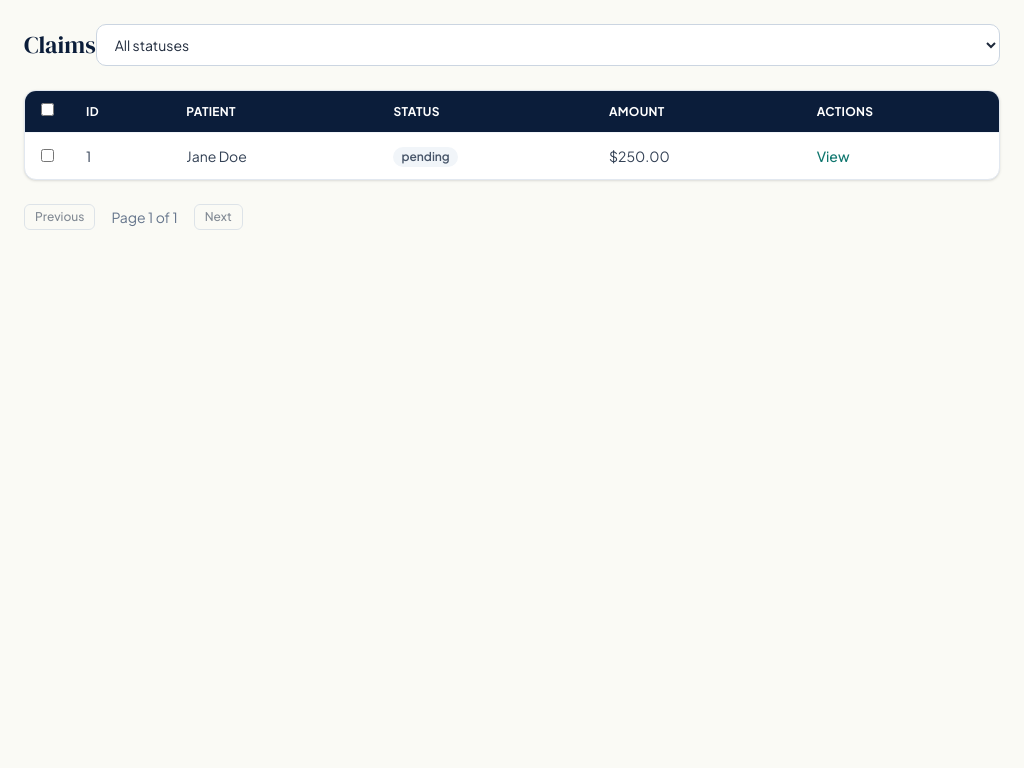
Test: ClaimsList › permission gating › disables the confirm Void button when the user lacks billing:batch
Expected: the text "Jane Doe" is shown, [170, 132, 377, 179]
Click the checkbox named "Select claim 1" at (48, 156), box [41, 149, 54, 162]
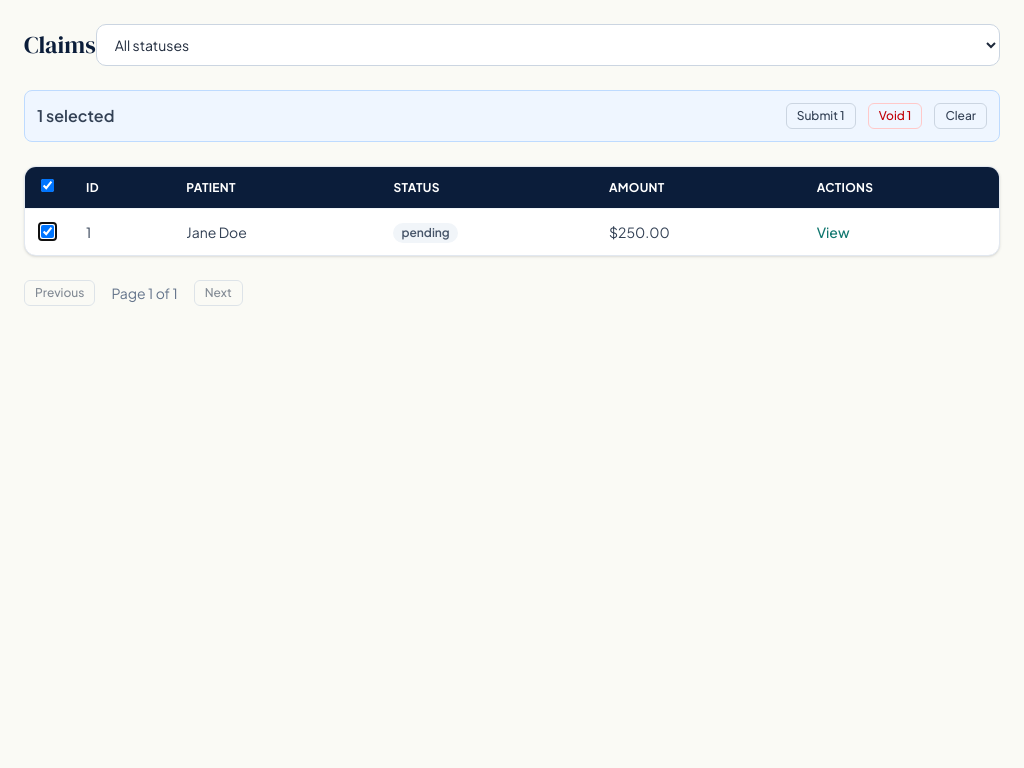
Click the button "Void 1" at (895, 116), box [868, 103, 922, 129]
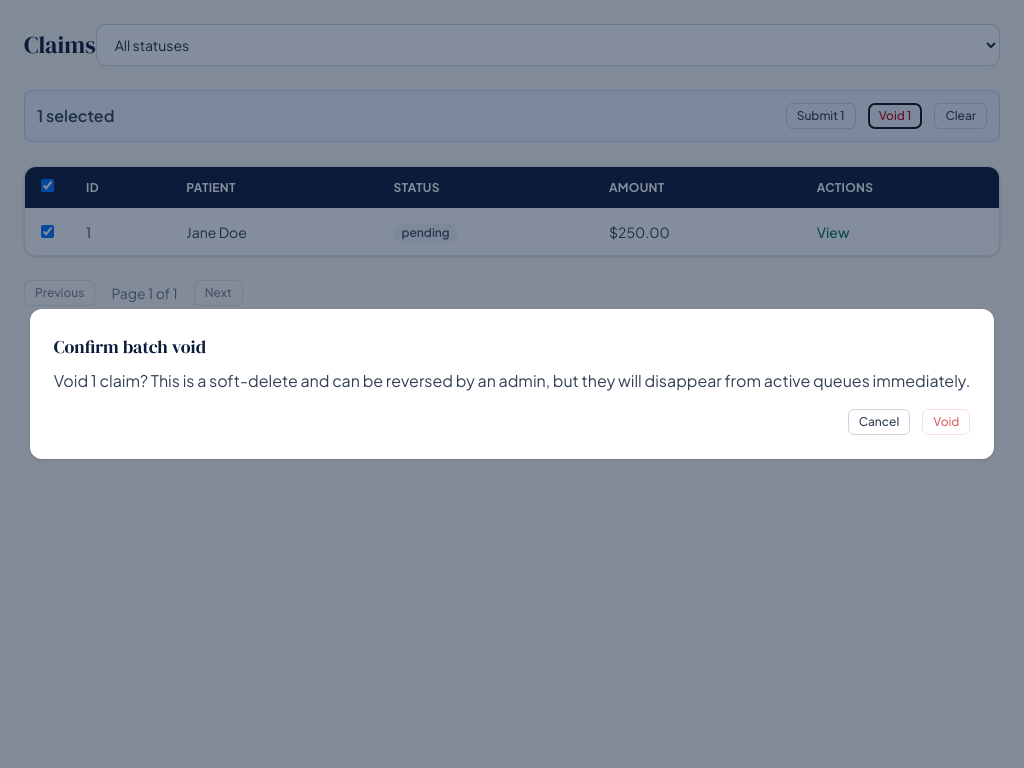
Now the button "Void" is disabled, box [922, 409, 970, 435]
